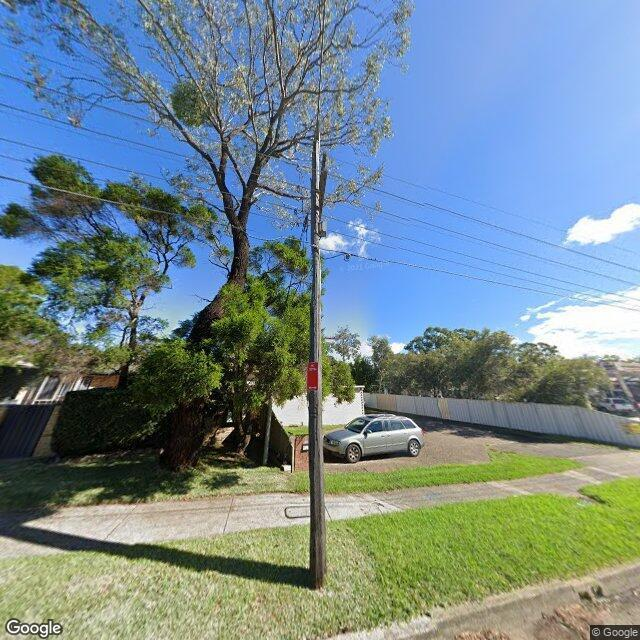crossarm: (318, 153, 330, 219)
timber-pole: (307, 134, 328, 588)
